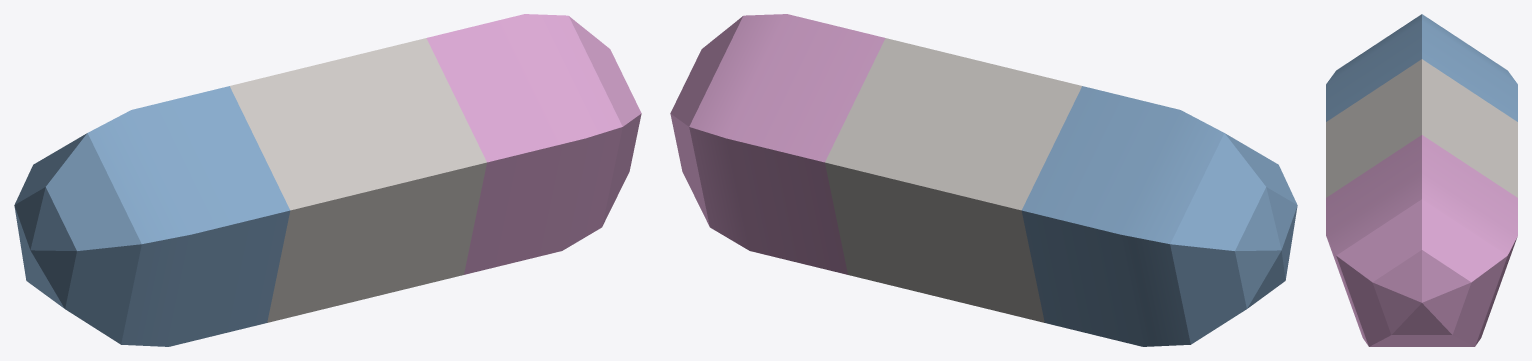
Rendered from SM_Prop_Pills_07.fbx.
3 views of the same model, side by side, from view 1: azimuth 30°, elevation 25°; view 2: azimuth 150°, elevation 25°; view 3: azimuth 270°, elevation 25° (orthographic). The views are drawn at different scales.
Visible parts, largest first — view 1: SM_Prop_Pills_07; view 2: SM_Prop_Pills_07; view 3: SM_Prop_Pills_07.
Part boxes in pixels (x1,y1,x2,y2): SM_Prop_Pills_07: (14, 14, 641, 346); SM_Prop_Pills_07: (670, 14, 1297, 346); SM_Prop_Pills_07: (1326, 14, 1517, 346).
Size of the model in its own units: 6.14 by 2.06 by 2.17.
